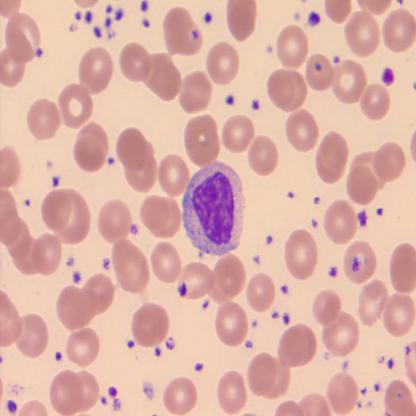Metamyelocyte: (180, 156, 246, 257)
